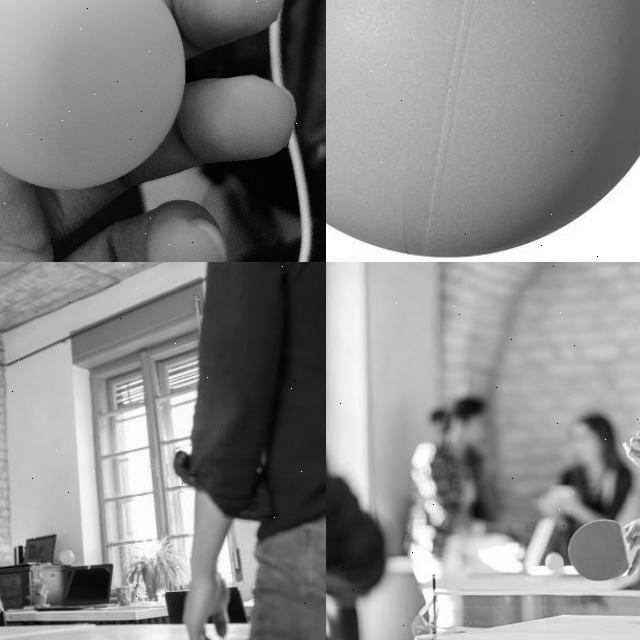ping-pong-ball: (326, 0, 639, 256), (0, 0, 182, 189), (544, 554, 564, 572), (56, 550, 74, 566)
